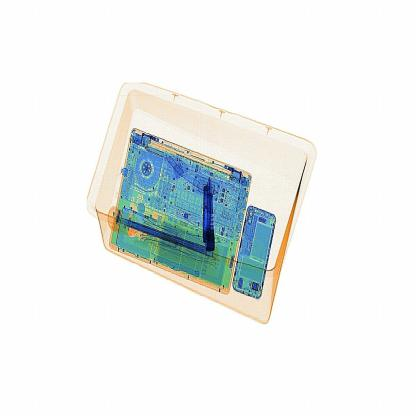pliers: (190, 164, 231, 251)
